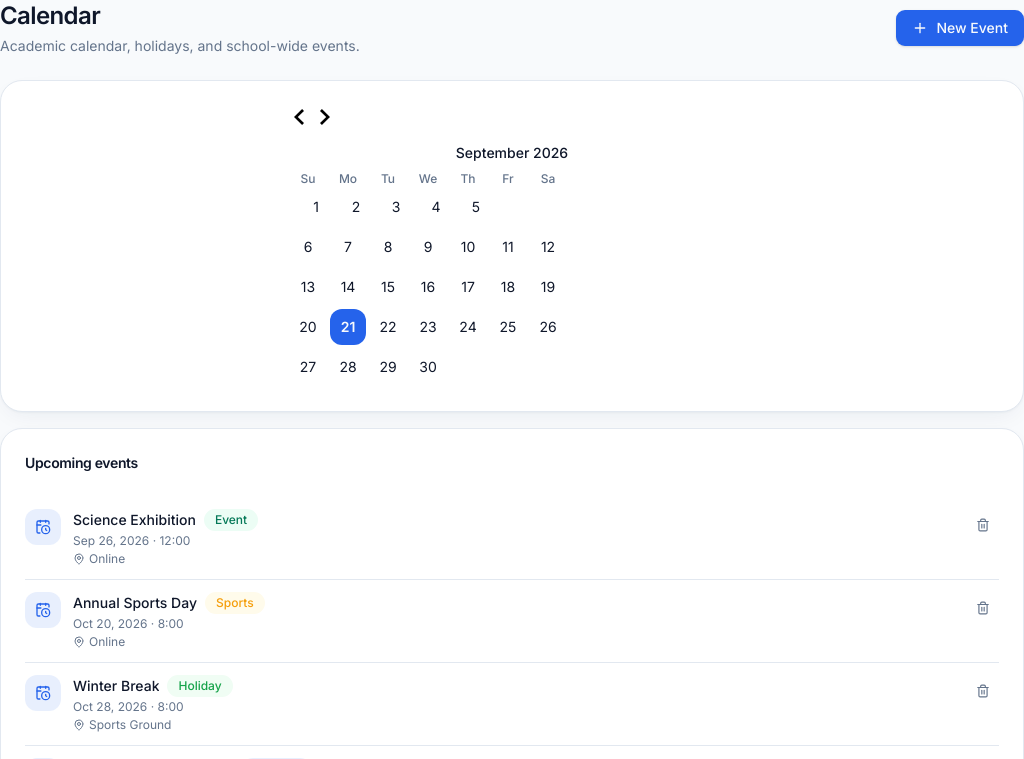
it: CalendarPage › deletes an event when the delete confirmation is accepted
Check: the text "Science Exhibition" is shown, box [73,510,196,530]
Click the button without text in the row of "Science Exhibition" at (983, 525), box [967,509,999,541]
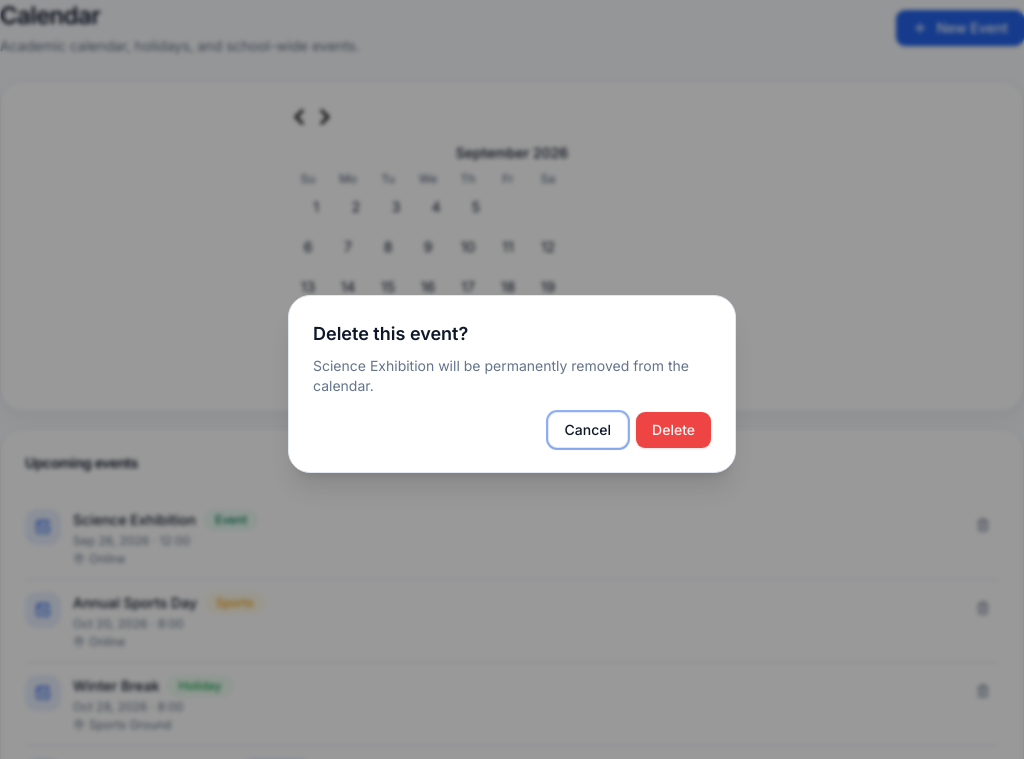
Click the button "Delete" at (674, 430), box [636,412,711,448]
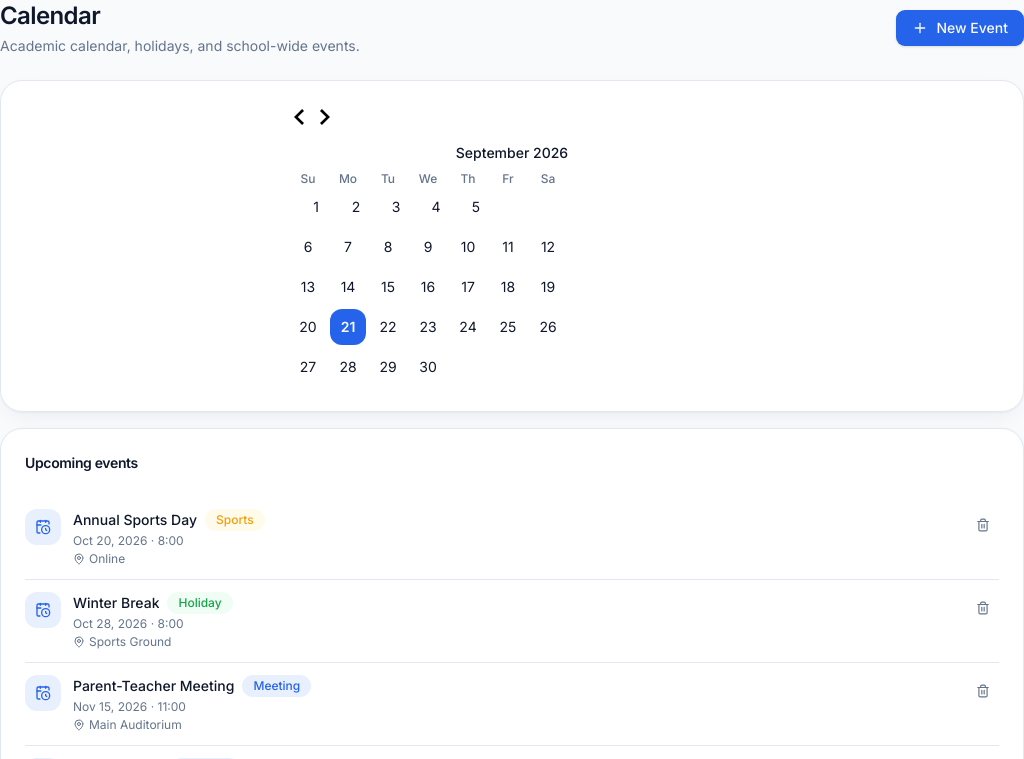
Check: the text "Science Exhibition" is gone
